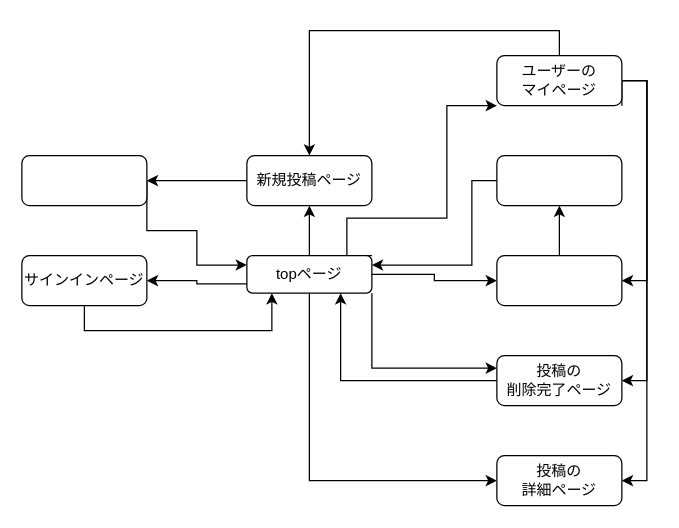
Image size: 679x528. Some labels were removed from this diagram. Each missing label, with the box of its shape:
投稿の 編集ページ: (496, 254, 622, 306)
投稿の 編集完了ページ: (496, 154, 622, 206)
新規完了ページ: (21, 154, 147, 206)
